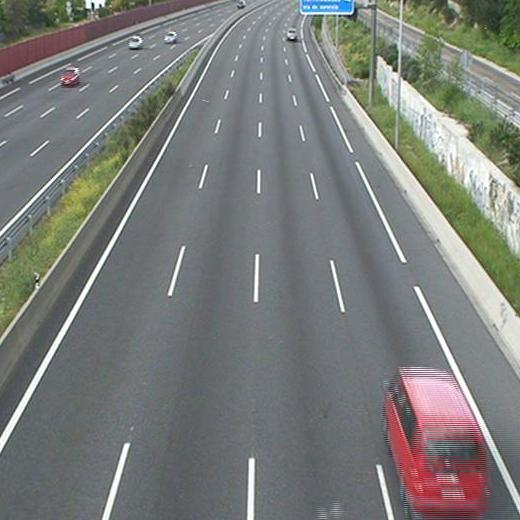car: (286, 28, 297, 40)
van: (385, 369, 488, 516)
